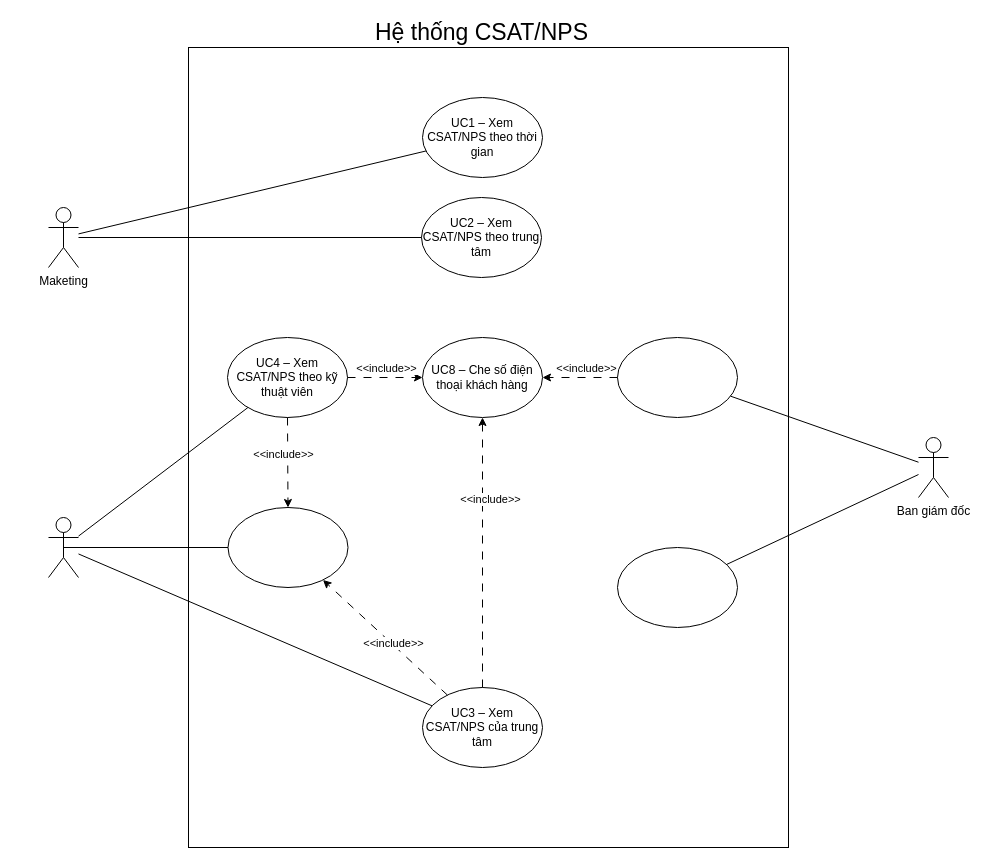
This 987x865 diagram has some shape labels left out. The shapes that lost their labels are listed below. From the top down, each one's centre as x and y in pixels, then its label:
At (677,377): "UC5 – Xem báo cáo CSAT/NPS tổng hợp".
At (63,547): "Quản lí trung tâm".
At (287,547): "UC7 – Kiểm soát phạm vi dữ liệu".
At (677,587): "UC6 – Xem CSAT/NPS theo trung tâm và thời gian".
